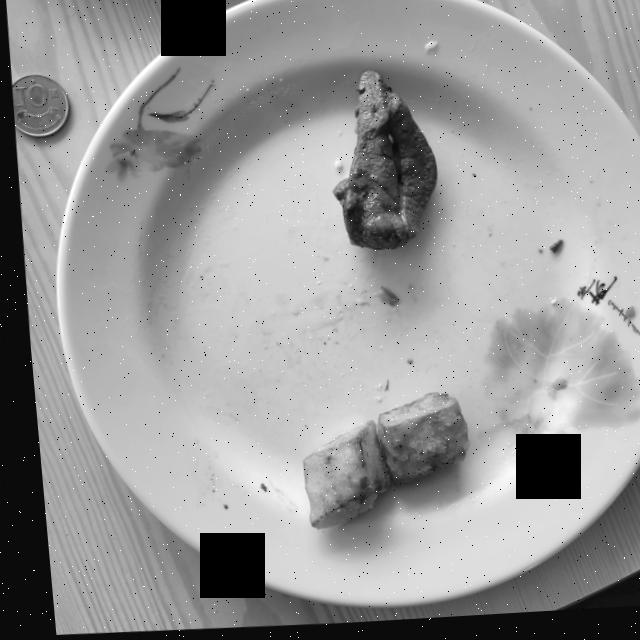coin: (10, 73, 67, 136)
fried potato: (294, 396, 460, 531)
pig liver: (329, 73, 433, 253)
